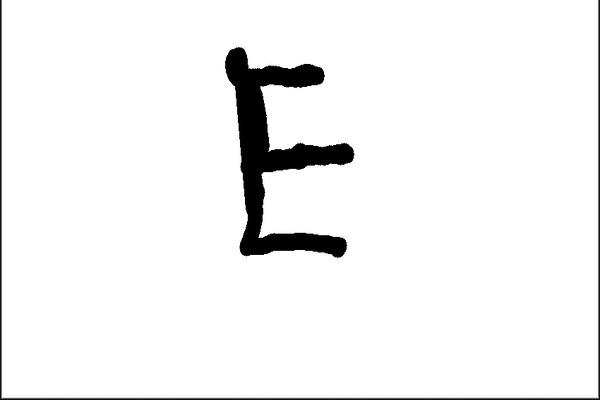E: (219, 42, 364, 264)
